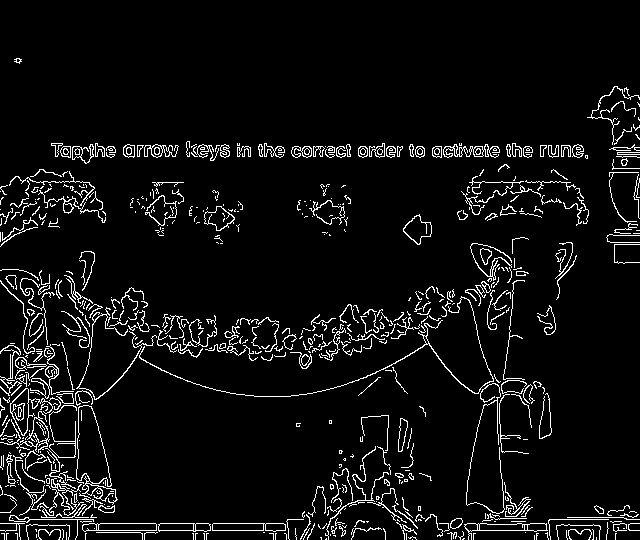rune_box: (68, 175, 484, 271)
